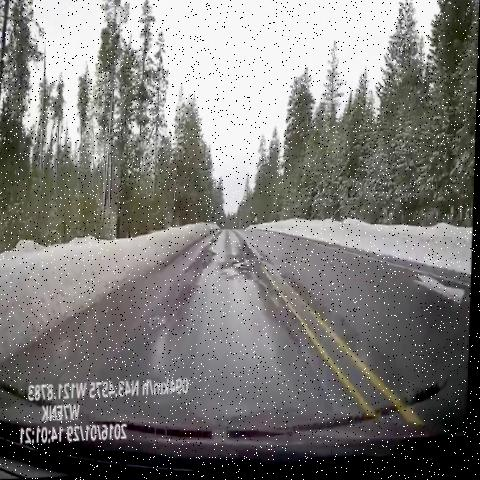pothole: (226, 239, 262, 292), (140, 312, 174, 342), (201, 242, 221, 276), (184, 273, 203, 307)
